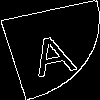A: (25, 25, 80, 78)
